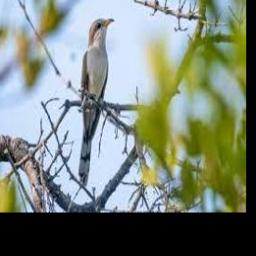Cuckoo: (78, 17, 115, 187)
